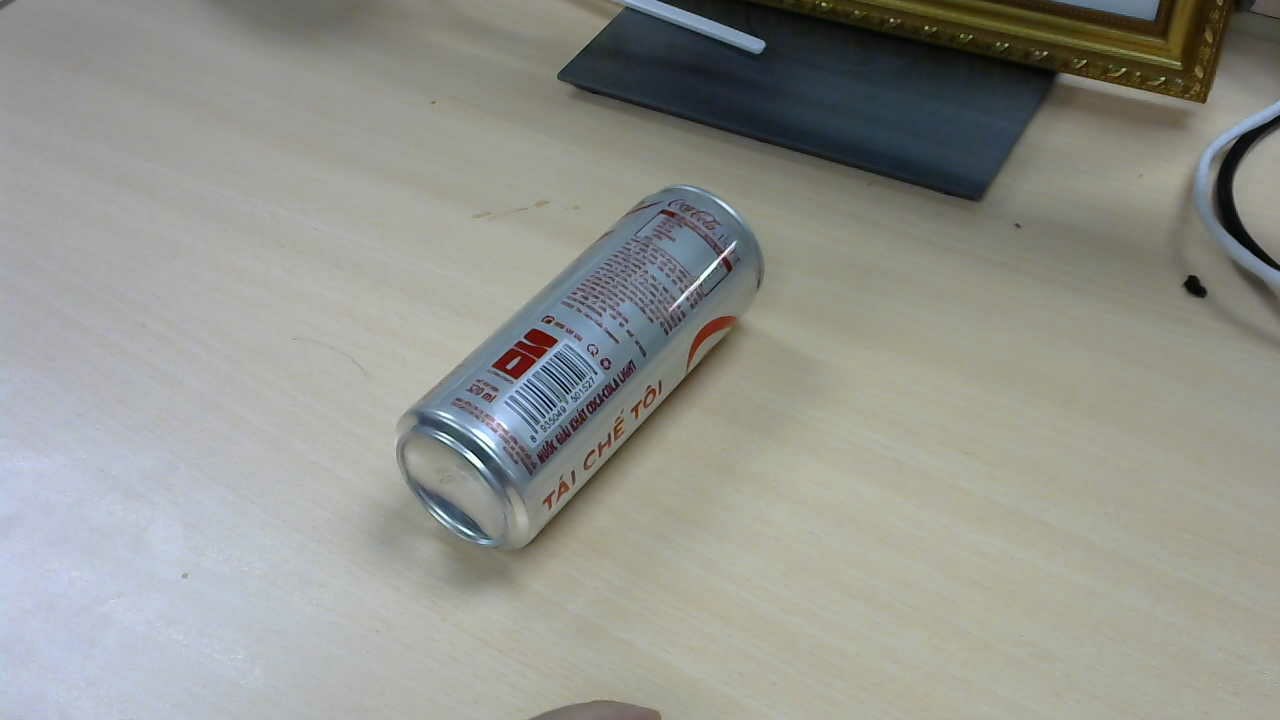Coca_Cola: (396, 189, 771, 556)
